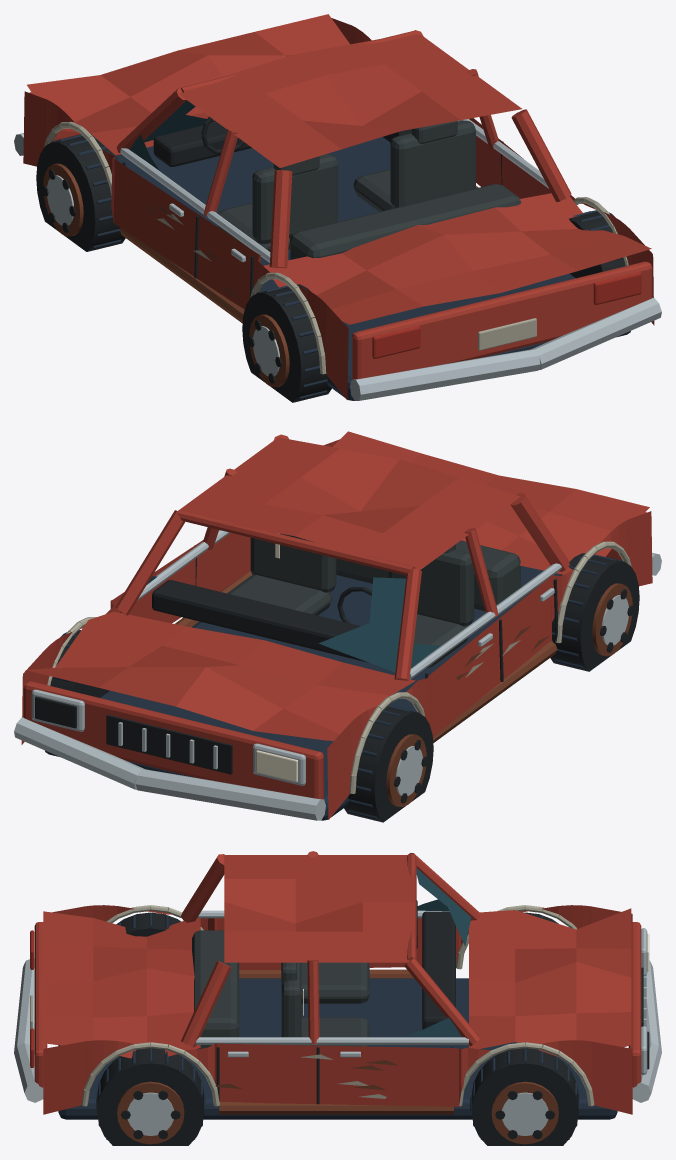
File: crush_car.glb
3 views of the same model, one above another, from view 1: azimuth 30°, elevation 25°; view 2: azimuth 150°, elevation 25°; view 3: azimuth 270°, elevation 25° (orthographic). The views are drawn at different scales.
Visible parts, largest first — view 1: Wreck_Salvage oxblood, Wreck_Torn charcoal upholstery, Wreck_Rubber, Wreck_Bare alloy, Wreck_Truss steel, Wreck_Exposed rust, Wreck_Scraped primer, Wreck_Cracked tail lens, Wreck_Wreck glass; view 2: Wreck_Salvage oxblood, Wreck_Rubber, Wreck_Bare alloy, Wreck_Torn charcoal upholstery, Wreck_Truss steel, Wreck_Wreck glass, Wreck_Exposed rust, Wreck_Scraped primer, Wreck_Warm white; view 3: Wreck_Salvage oxblood, Wreck_Rubber, Wreck_Truss steel, Wreck_Bare alloy, Wreck_Torn charcoal upholstery, Wreck_Exposed rust, Wreck_Scraped primer, Wreck_Wreck glass.
Part boxes in pixels (x1,y1,x2,y2): Wreck_Salvage oxblood: (23, 14, 654, 399); Wreck_Torn charcoal upholstery: (217, 120, 521, 259); Wreck_Rubber: (36, 116, 625, 402); Wreck_Bare alloy: (14, 119, 661, 400); Wreck_Truss steel: (51, 134, 630, 400); Wreck_Exposed rust: (43, 163, 478, 387); Wreck_Scraped primer: (44, 121, 628, 374); Wreck_Cracked tail lens: (372, 272, 641, 358); Wreck_Wreck glass: (129, 100, 215, 169); Wreck_Salvage oxblood: (21, 431, 652, 819); Wreck_Rubber: (35, 545, 639, 822); Wreck_Bare alloy: (14, 530, 661, 820); Wreck_Torn charcoal upholstery: (227, 533, 520, 668); Wreck_Truss steel: (45, 554, 624, 820); Wreck_Wreck glass: (147, 576, 440, 672); Wreck_Exposed rust: (175, 571, 632, 806); Wreck_Scraped primer: (47, 541, 631, 793); Wreck_Warm white: (256, 532, 297, 782); Wreck_Salvage oxblood: (34, 851, 641, 1114); Wreck_Rubber: (97, 900, 649, 1145); Wreck_Truss steel: (58, 913, 617, 1139); Wreck_Bare alloy: (14, 910, 661, 1135); Wreck_Torn charcoal upholstery: (192, 930, 369, 1049); Wreck_Exposed rust: (117, 969, 558, 1144); Wreck_Scraped primer: (30, 905, 594, 1106); Wreck_Wreck glass: (407, 868, 471, 1036).
Size of the model in its own units: 2.99 by 1.5 by 5.19.
